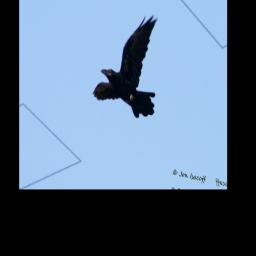Crow: (90, 3, 163, 121)
